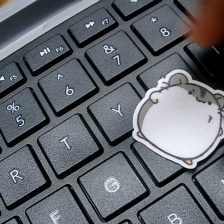mouse: (131, 64, 224, 170)
